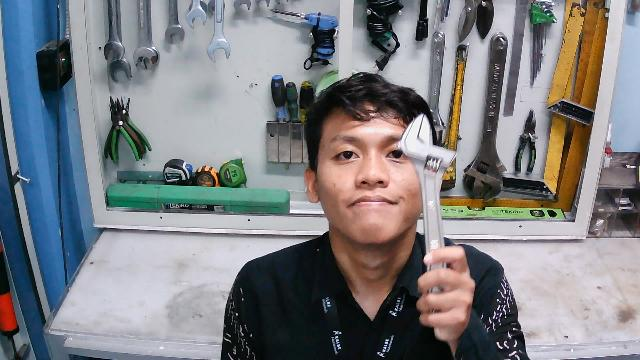kunci_inggris: (394, 113, 460, 321)
